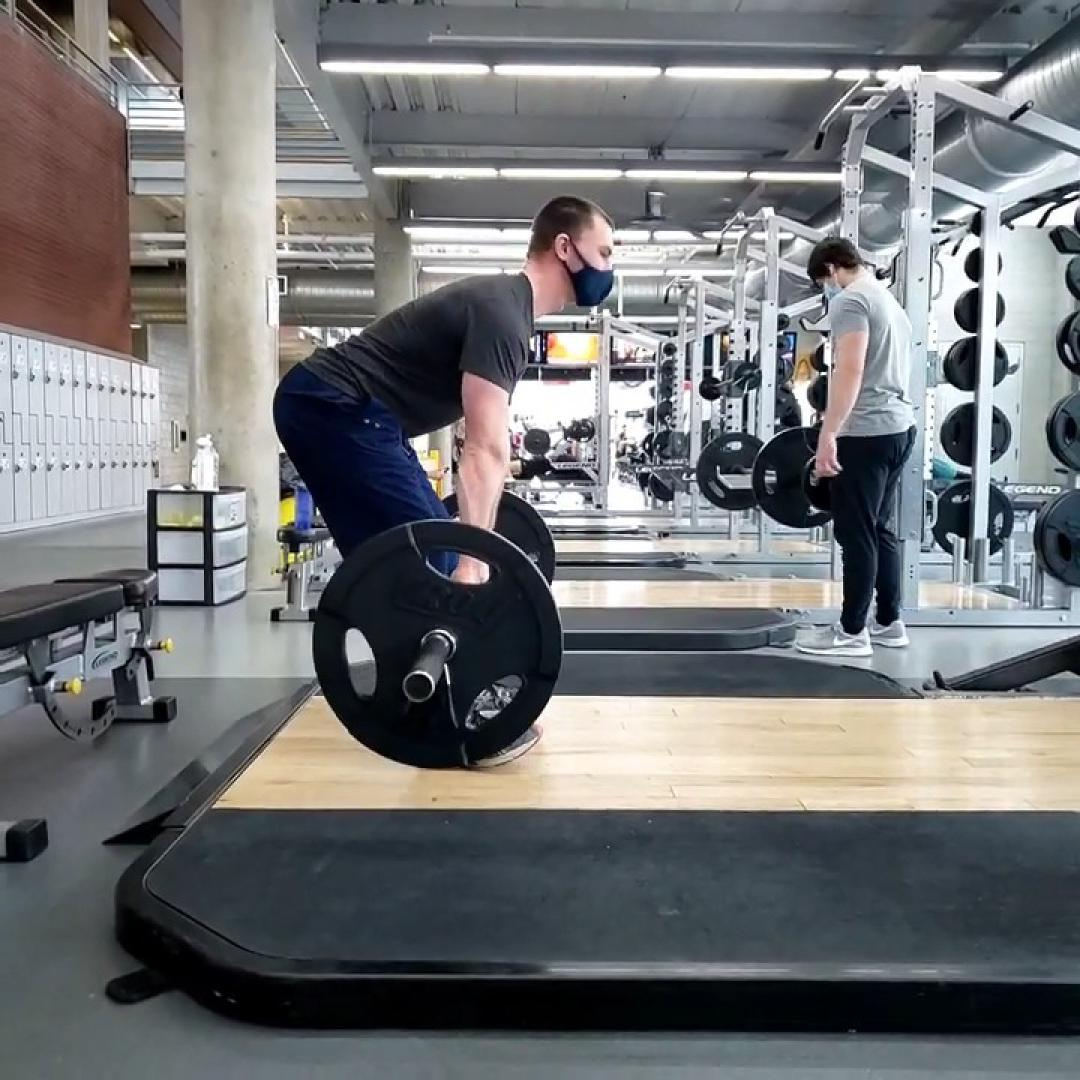Bar: (400, 668, 436, 705)
Barbell: (312, 519, 562, 771)
